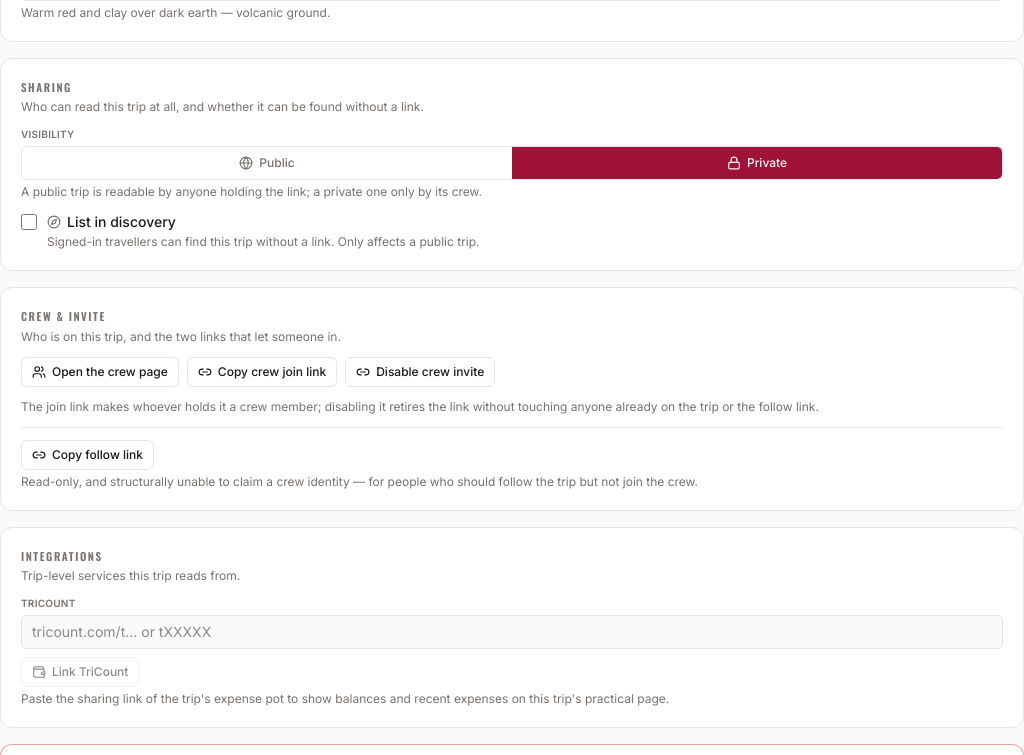
SettingsPage — crew & invite links › copy join link puts the absolute URL on the clipboard
(page scrolled)
What coordinates should you click on to do the following:
click the button "Copy crew join link"
I would click on:
 (262, 372)
Its box is [187,356,337,386].
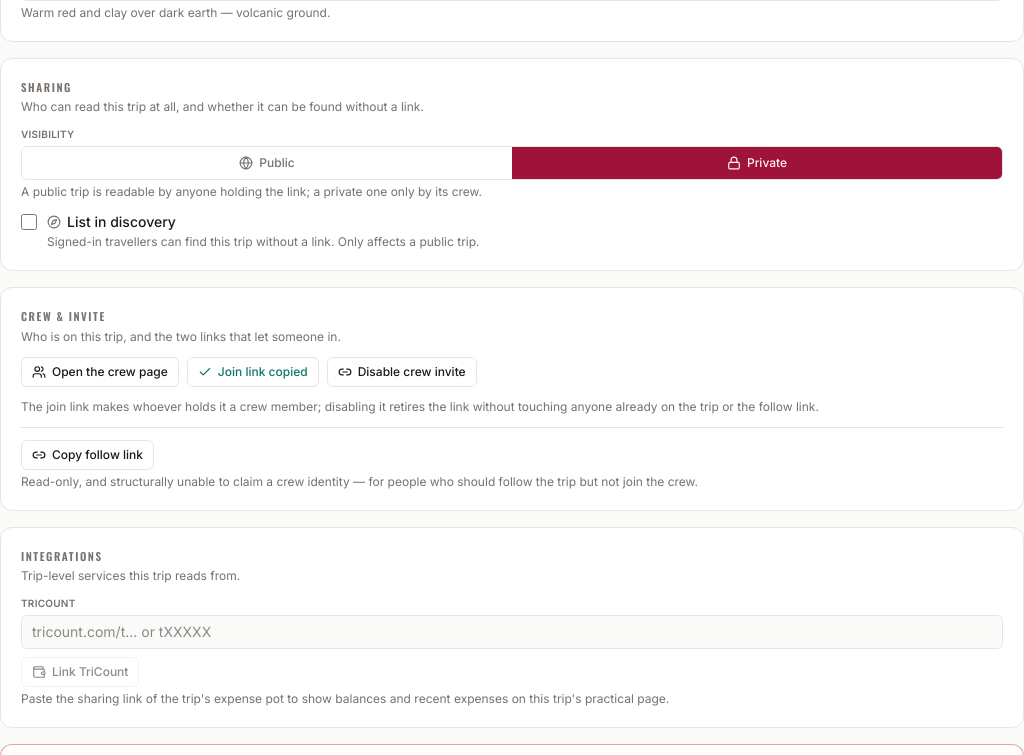
Expected: the text "Join link copied" is shown, [218,364,308,380]
